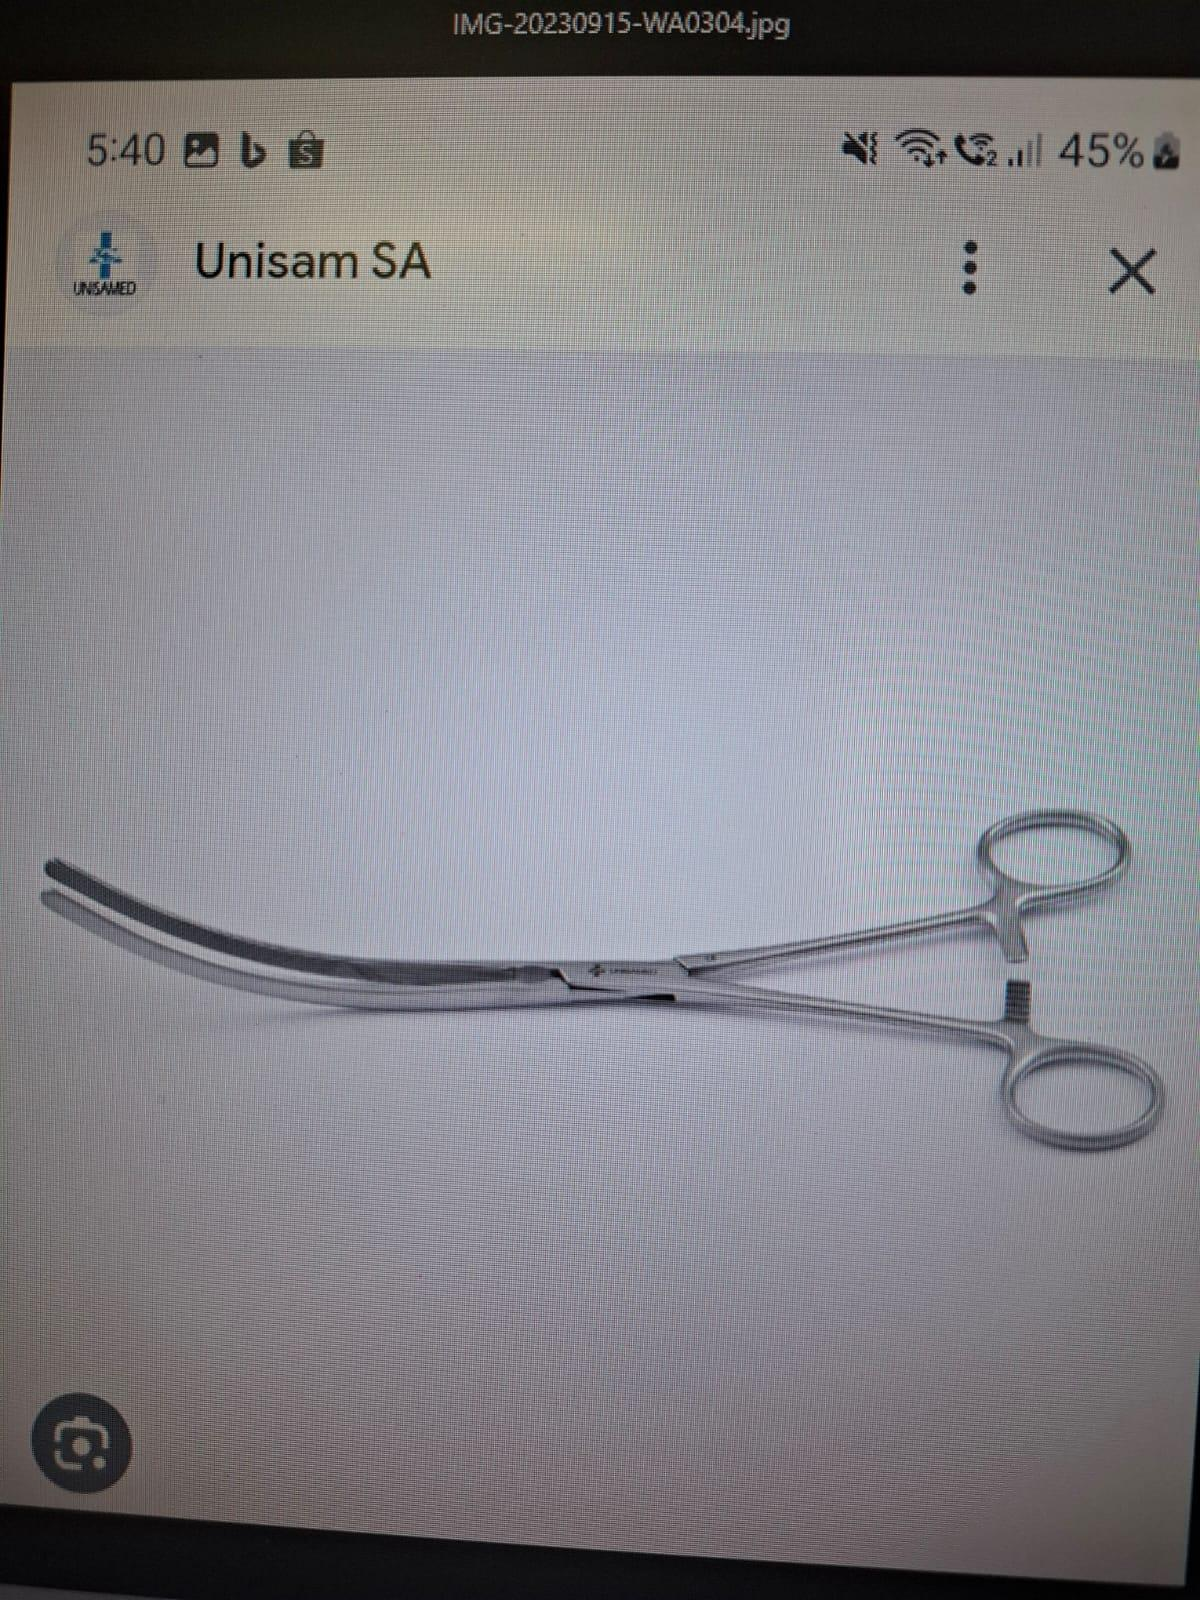Doyel Instestinal Forceps: (35, 772, 1175, 1168)
